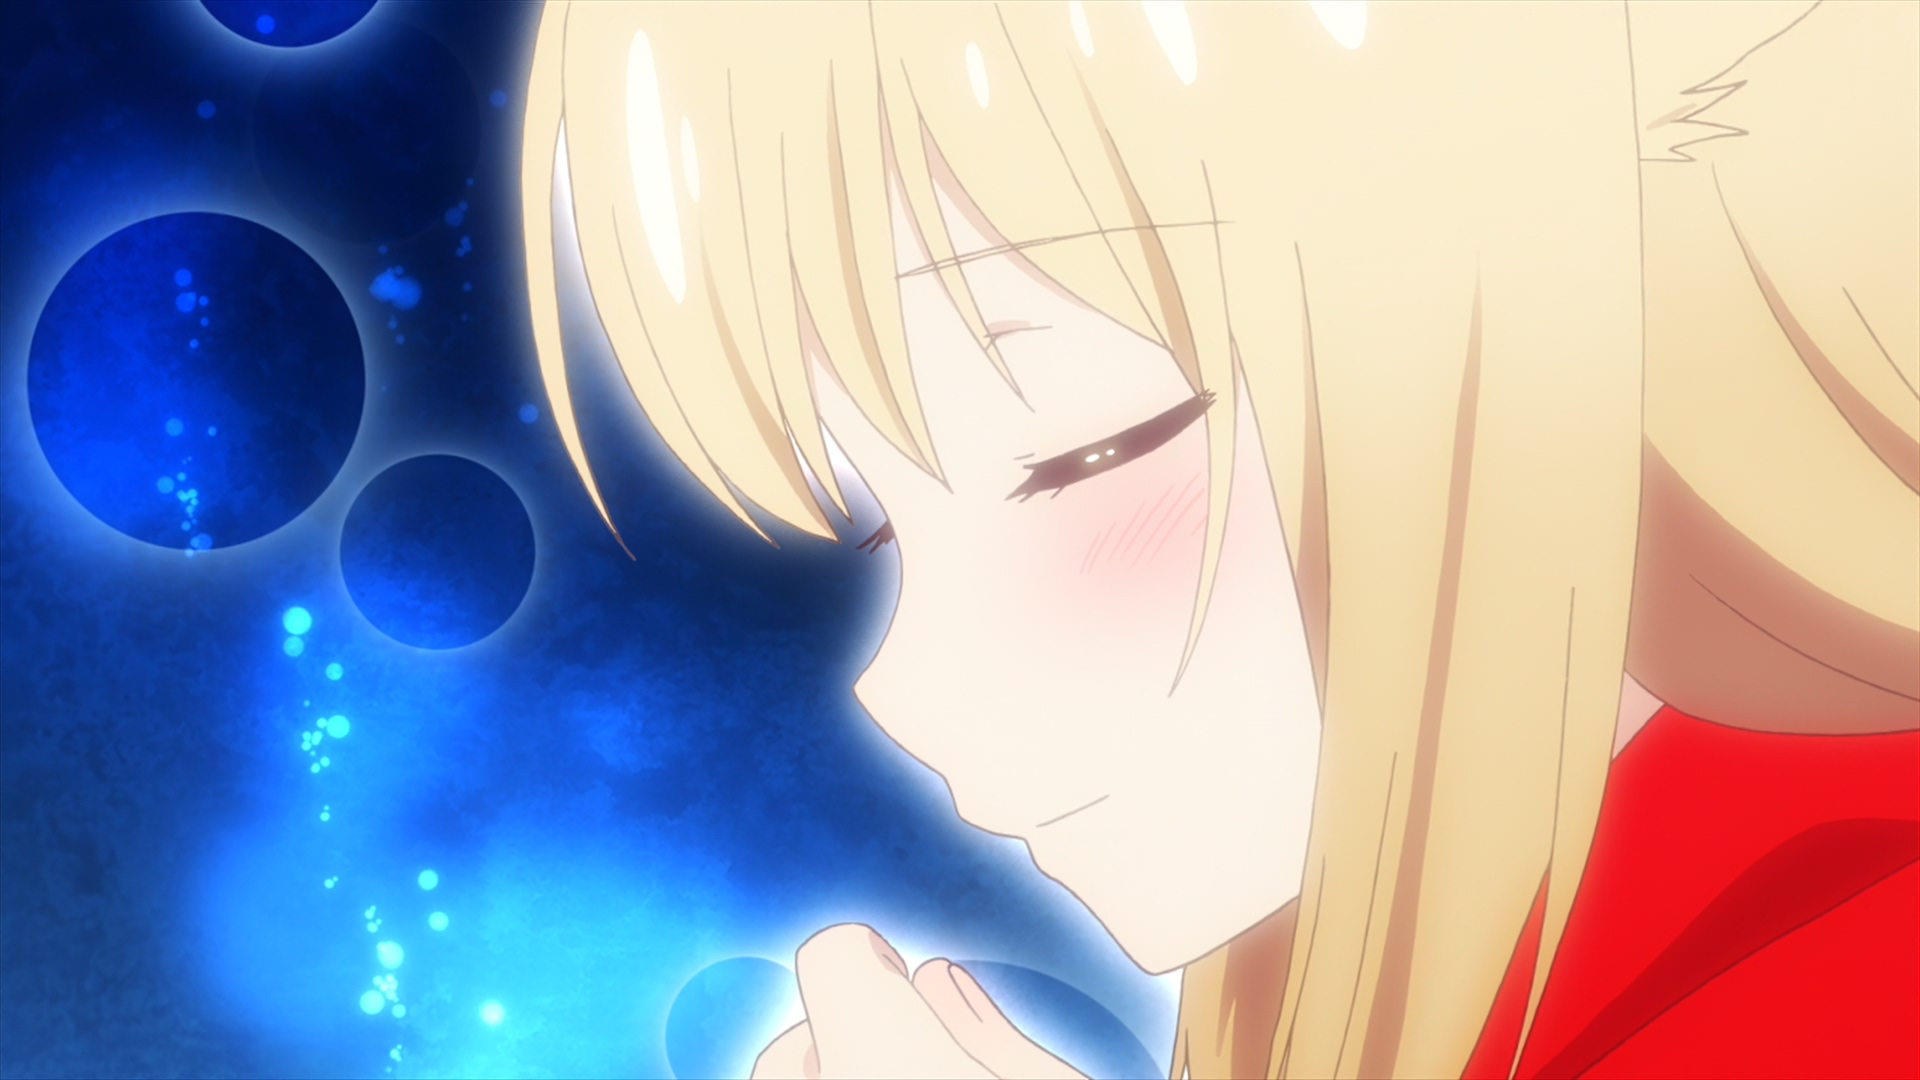柚: (518, 1, 1920, 1080)
